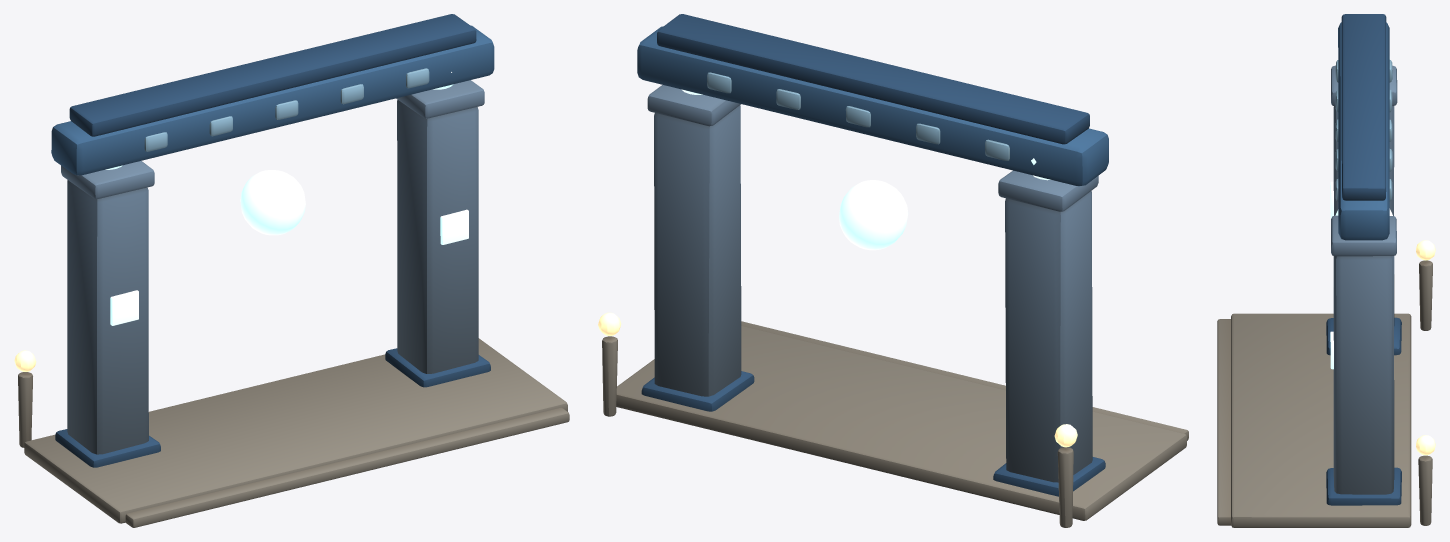
3 views of the same model, side by side, from view 1: azimuth 30°, elevation 25°; view 2: azimuth 150°, elevation 25°; view 3: azimuth 270°, elevation 25° (orthographic). The views are drawn at different scales.
Visible parts, largest first — view 1: gate_b0449df0; view 2: gate_b0449df0; view 3: gate_b0449df0.
Boxes of the visible parts, <box> form: gate_b0449df0: <box>14,14,569,527</box>; gate_b0449df0: <box>598,14,1188,527</box>; gate_b0449df0: <box>1217,14,1435,527</box>.
Size of the model in its own units: 5.64 by 4.21 by 2.54.
